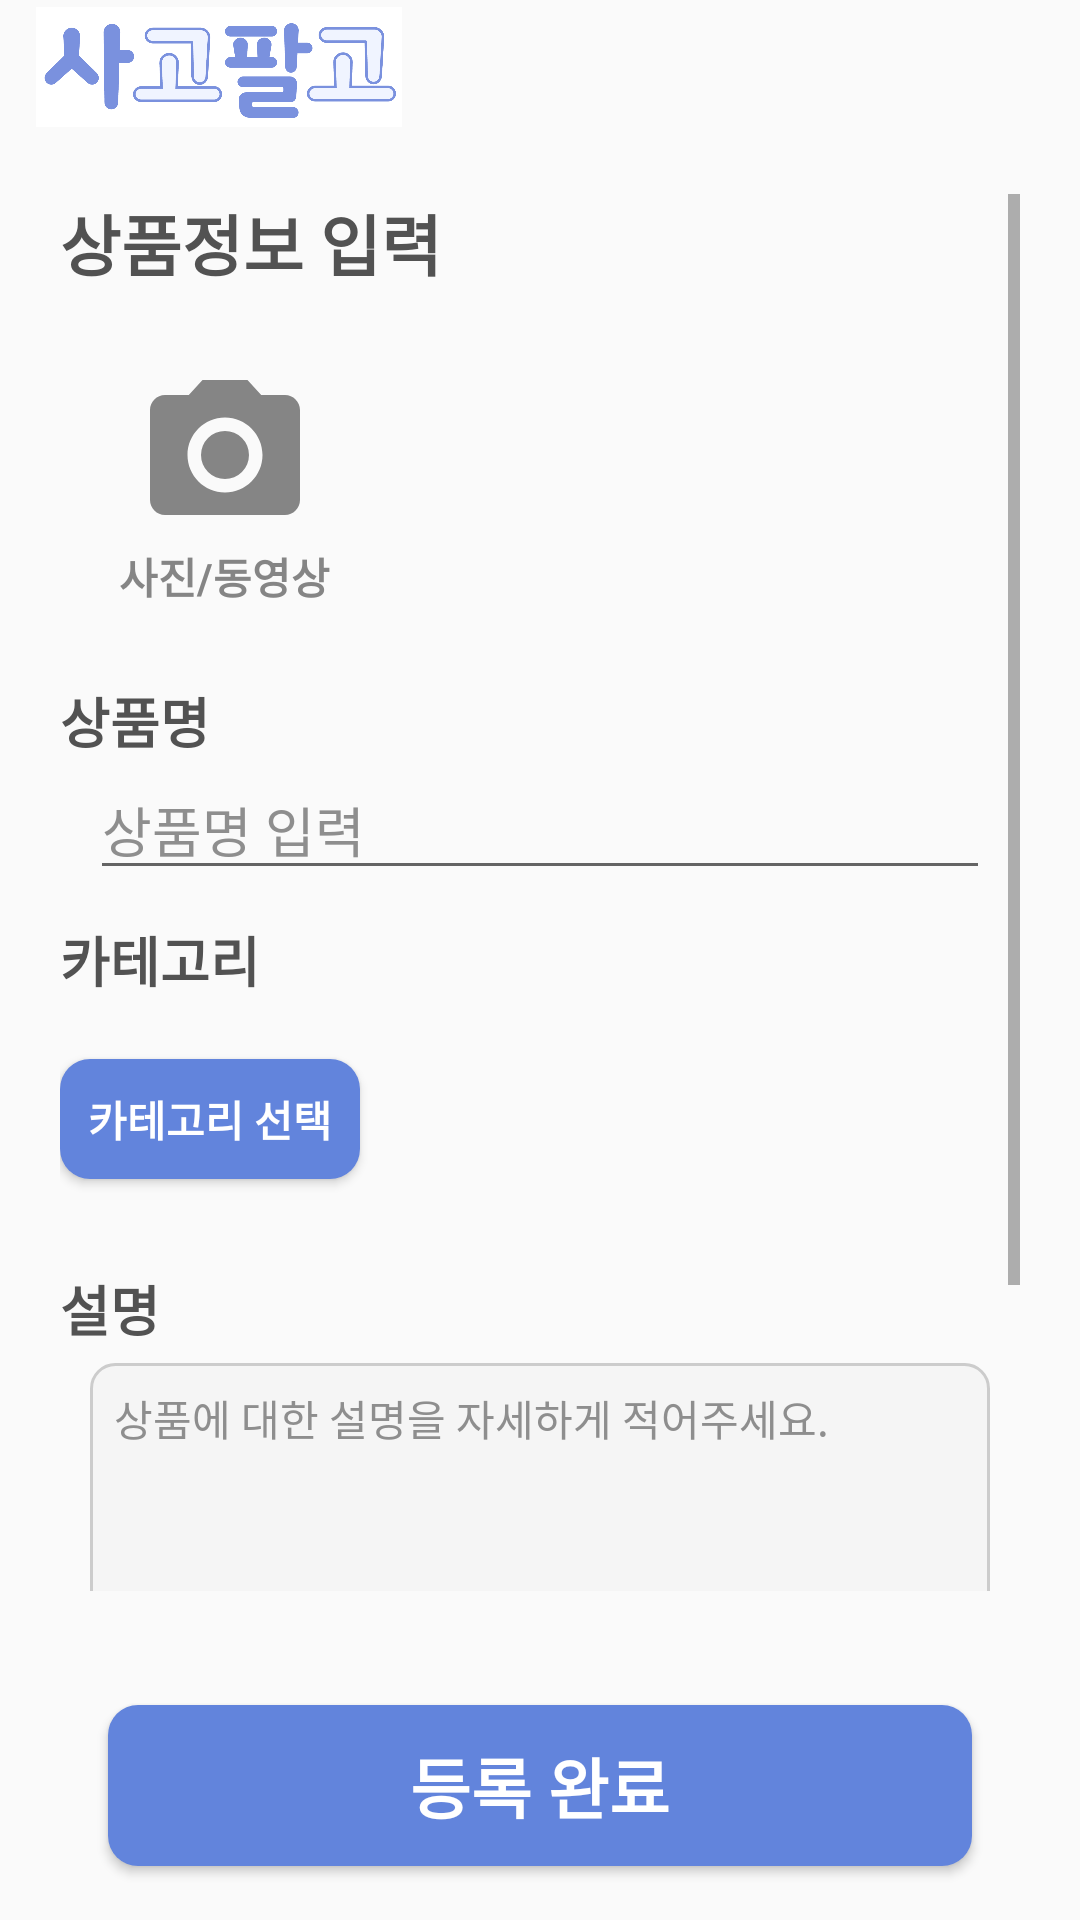

Where to tap for icons on this 1080px x 1920px app screen, as (x=x, y=y):
Camera Icon: (x=225, y=447)
